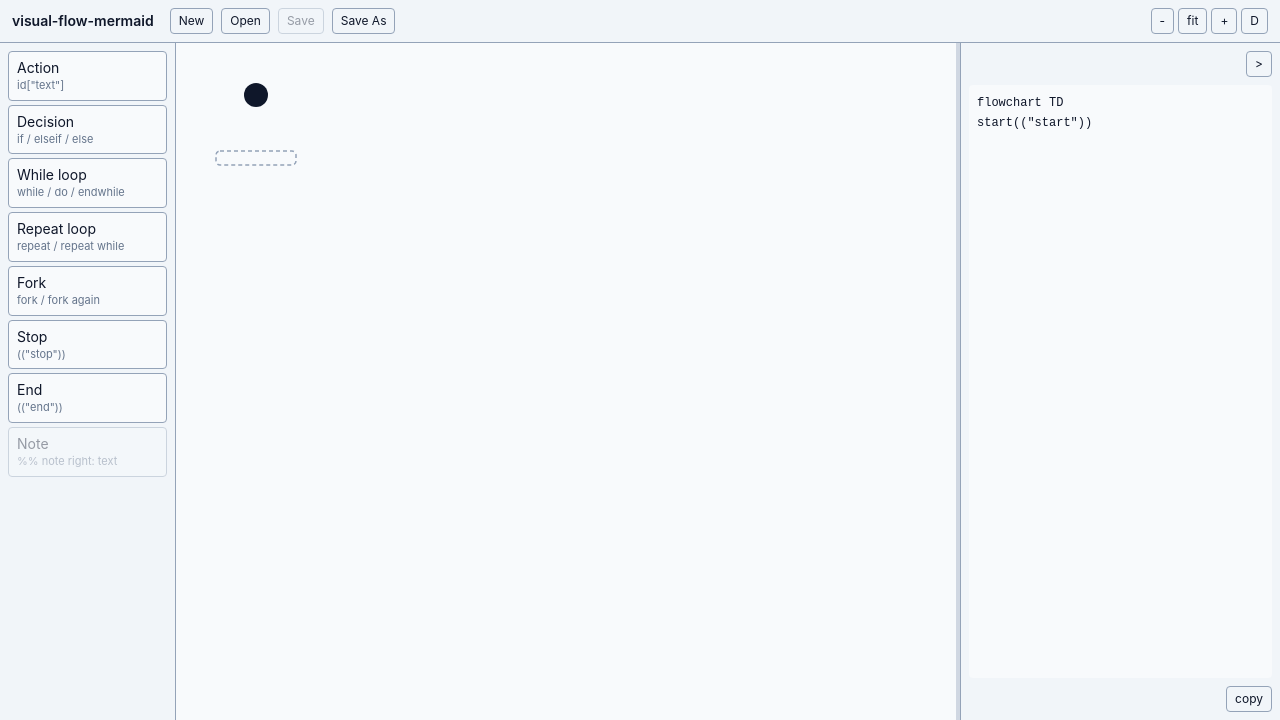
Test case: collapses and restores the Mermaid panel
Click the button named "hide mermaid panel": point(1259, 64) [1246, 51, 1272, 77]
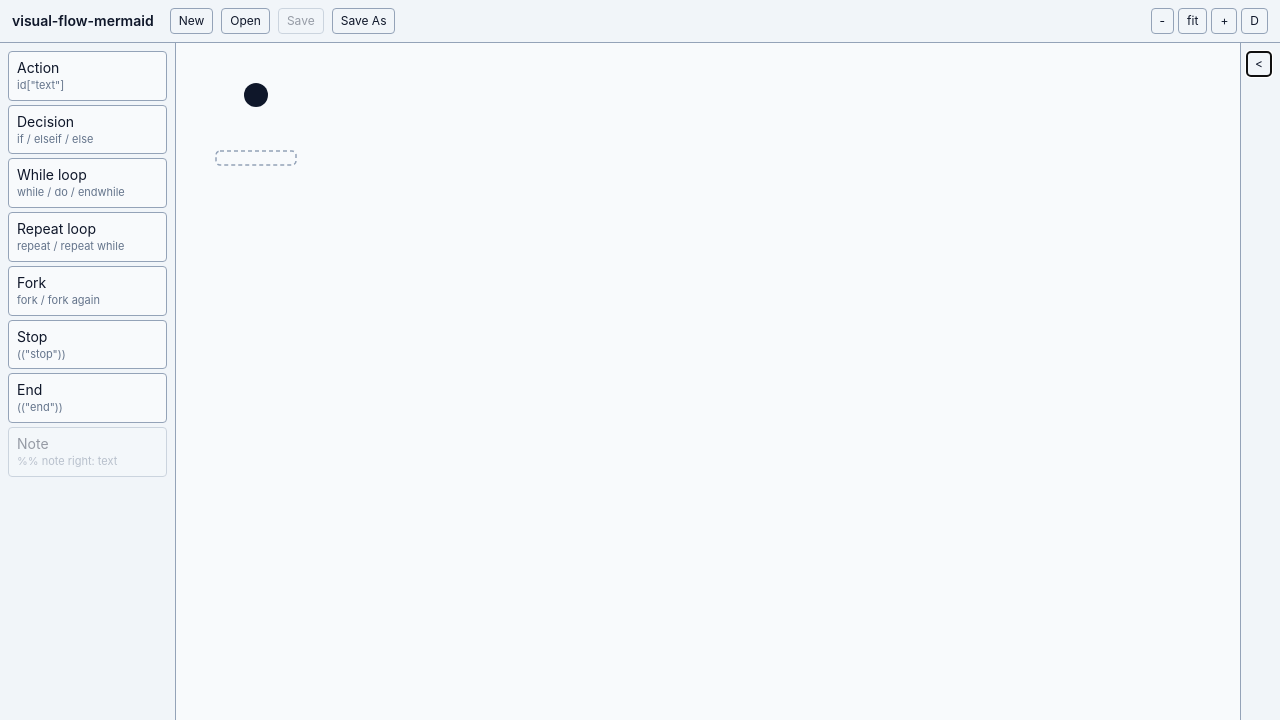
Now the button "copy" is gone
Click the button named "show mermaid panel": point(1259, 64) [1246, 51, 1272, 77]
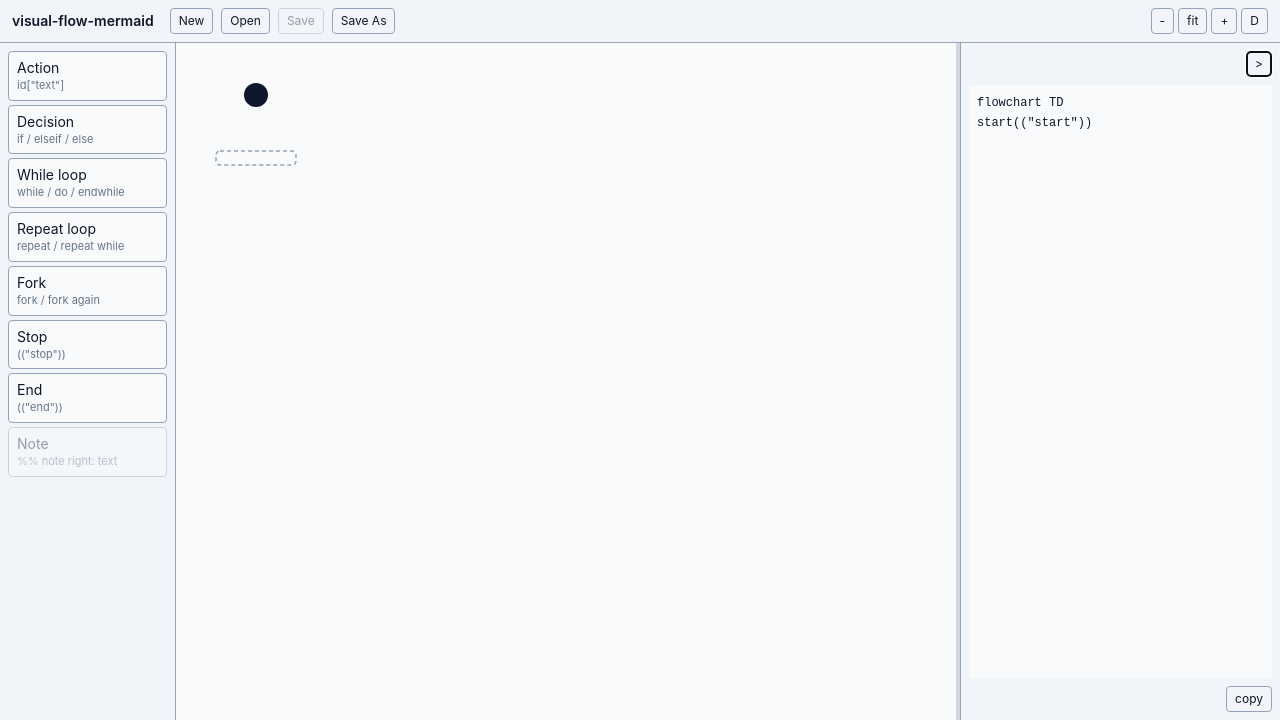
Now the button "copy" is shown, box [1226, 686, 1272, 712]
